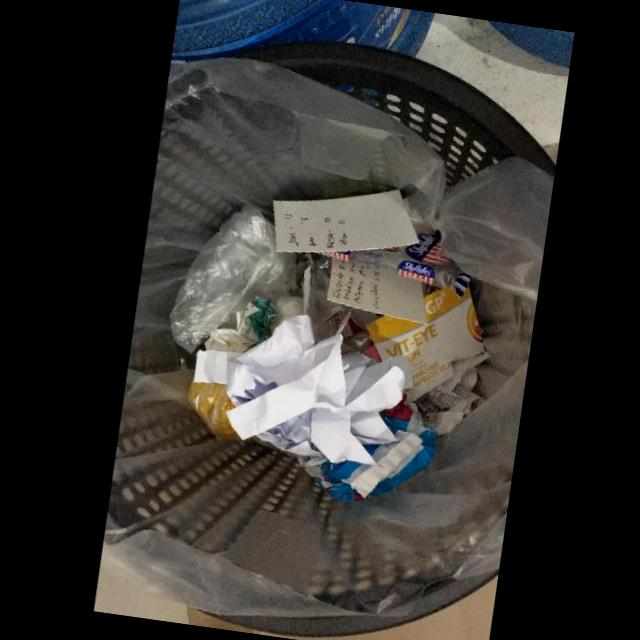bao_bi_thuc_pham: (319, 230, 470, 297)
carton: (272, 189, 419, 253), (327, 258, 428, 324)
giay: (193, 314, 413, 466), (367, 283, 489, 403), (305, 400, 438, 503)
tui_ni_long: (169, 205, 297, 353)
